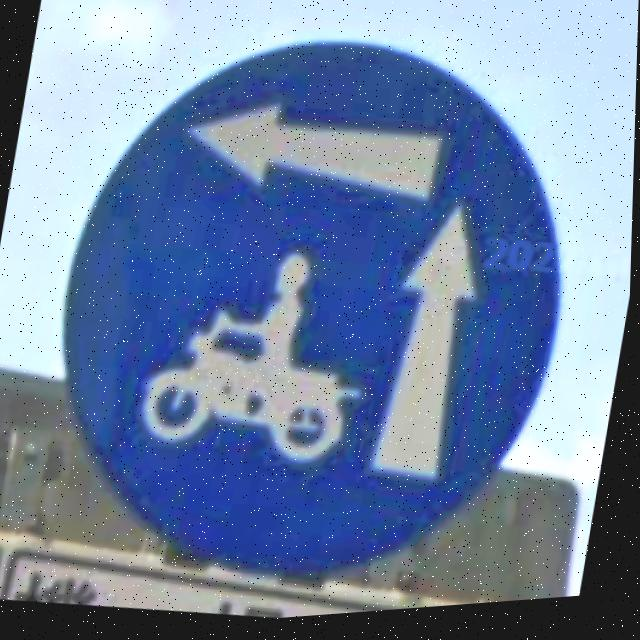twostageturn: (63, 45, 564, 588)
